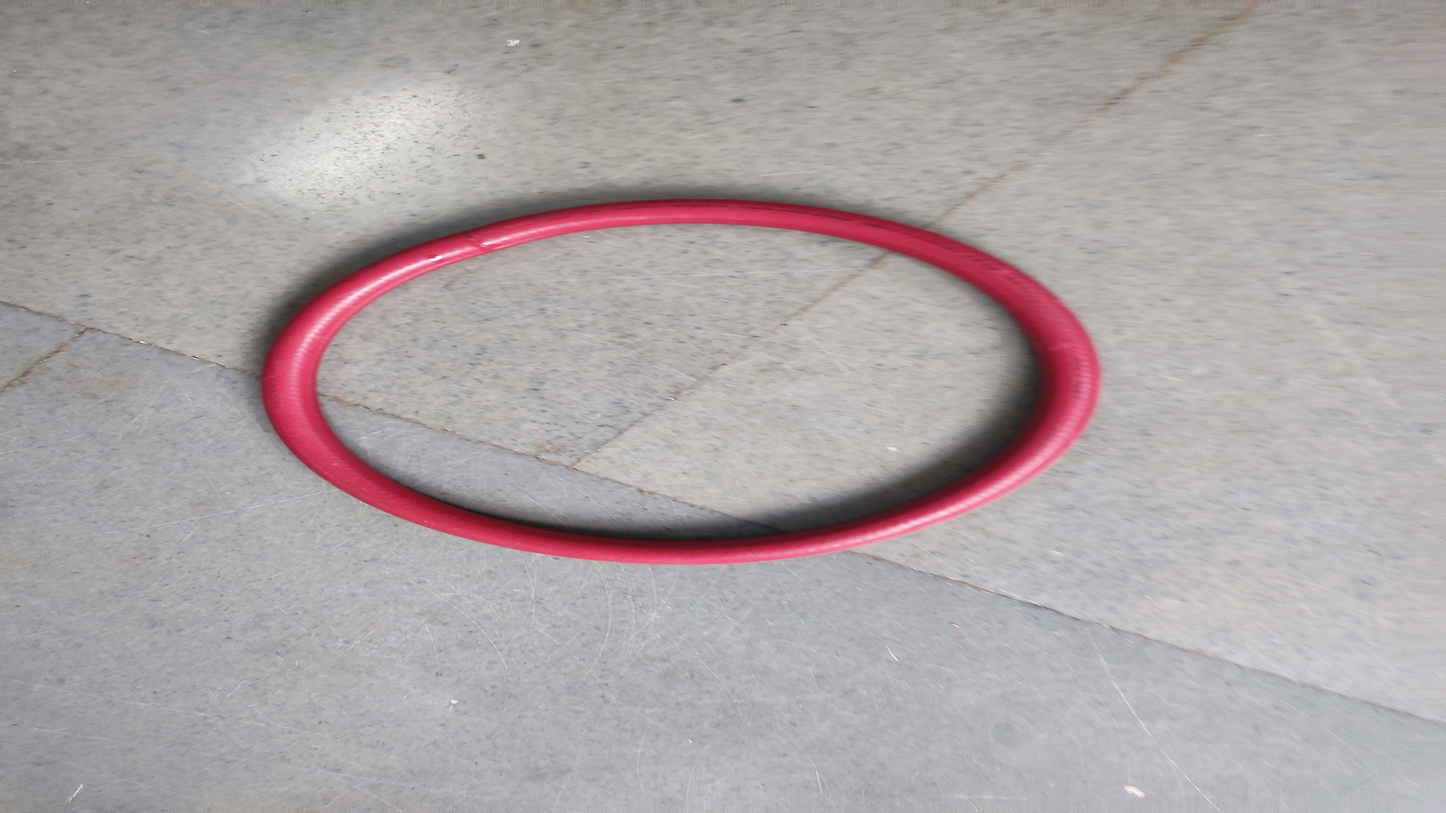Red ring: (262, 199, 1097, 562)
